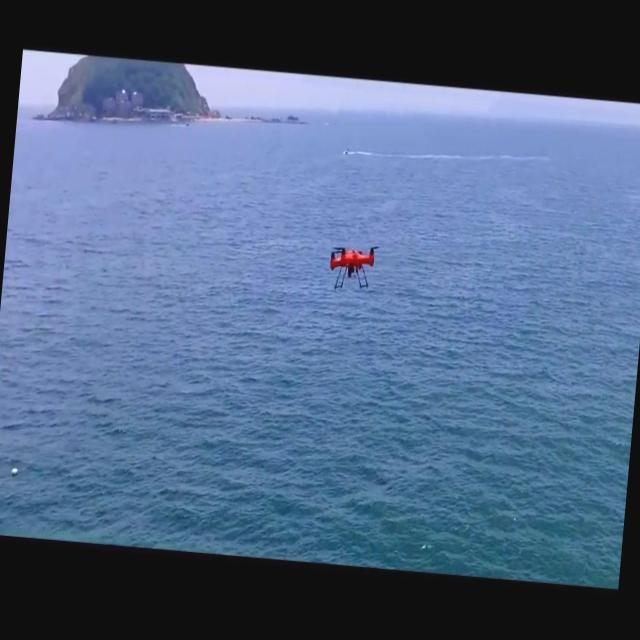drone: (324, 240, 378, 294)
